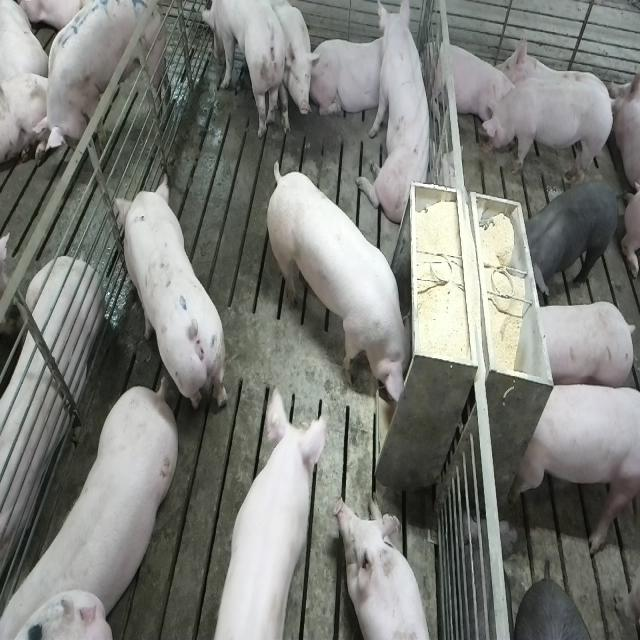Feeding: (270, 163, 420, 410)
Sitting: (362, 4, 437, 230), (270, 2, 316, 144)
Standing: (6, 375, 183, 635), (204, 386, 330, 640), (114, 176, 224, 414), (31, 0, 173, 154), (514, 382, 638, 550), (481, 80, 619, 184), (198, 0, 289, 144), (522, 180, 622, 293), (530, 298, 634, 389)
Sternal_lying: (0, 251, 100, 582), (337, 496, 437, 640), (427, 33, 514, 134), (311, 35, 391, 122)
